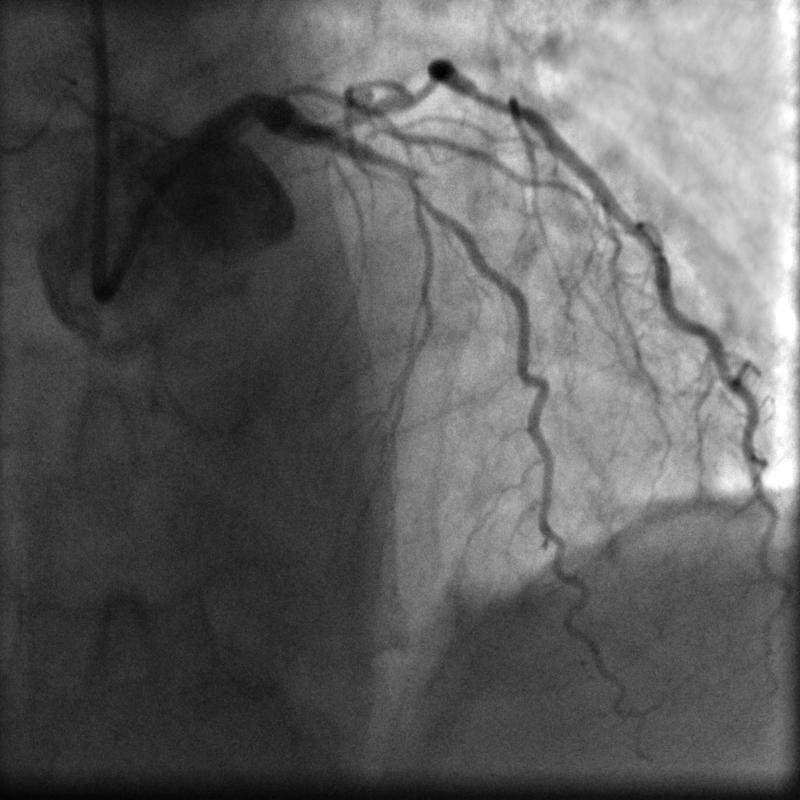Stenosis: (369, 140, 423, 196)
